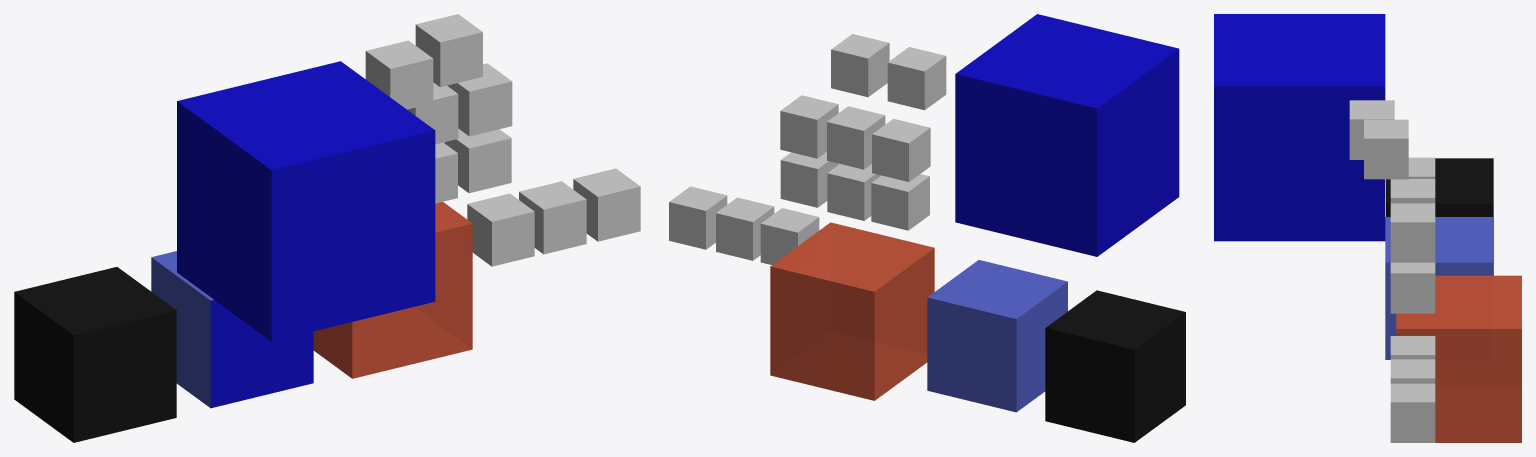
The model's file is test_scene_pbr.obj.
3 renders of one model, left to right at view 1: azimuth 30°, elevation 25°; view 2: azimuth 150°, elevation 25°; view 3: azimuth 270°, elevation 25°, orthographic. The views are drawn at different scales.
Visible parts, largest first — view 1: Cube.002, Cube.003, Cube, Cube.brk, Cube.010, Cube.013, Cube.012, Cube.009, Cube.011, Cube.008, Cube.005, Cube.007 (+1 smaller); view 2: Cube.002, Cube.brk, Cube.003, Cube, Cube.009, Cube.006, Cube.013, Cube.001, Cube.012, Cube.008, Cube.007, Cube.011 (+3 smaller); view 3: Cube.002, Cube.brk, Cube, Cube.003, Cube.008, Cube.012, Cube.013, Cube.005, Cube.009, Cube.011, Cube.007, Cube.010 (+1 smaller).
Part boxes in pixels (x1,y1,x2,y2): Cube.002: (177,61,435,341); Cube.003: (14,267,176,442); Cube: (151,251,313,408); Cube.brk: (313,202,472,378); Cube.010: (467,193,534,266); Cube.013: (415,14,482,87); Cube.012: (573,168,640,241); Cube.009: (365,40,433,109); Cube.011: (519,181,586,254); Cube.008: (447,63,512,136); Cube.005: (444,128,511,193); Cube.007: (407,82,458,144); Cube.002: (955,14,1179,256); Cube.brk: (770,222,934,400); Cube.003: (1045,290,1185,442); Cube: (927,260,1067,412); Cube.009: (887,47,946,110); Cube.006: (872,118,930,181); Cube.013: (831,34,889,97); Cube.001: (871,174,929,230); Cube.012: (669,186,727,249); Cube.008: (780,95,838,158); Cube.007: (827,106,885,169); Cube.011: (716,197,774,260); Cube.002: (1214,14,1385,241); Cube.brk: (1396,275,1521,442); Cube: (1385,217,1492,359); Cube.003: (1386,158,1493,275); Cube.008: (1390,203,1435,262); Cube.012: (1390,383,1435,442); Cube.013: (1364,119,1408,179); Cube.005: (1390,262,1435,313); Cube.009: (1349,100,1394,159); Cube.011: (1390,359,1435,383); Cube.007: (1390,179,1435,203); Cube.010: (1390,336,1435,359).
Size of the model in its own units: 11.07 by 6.17 by 5.73.
